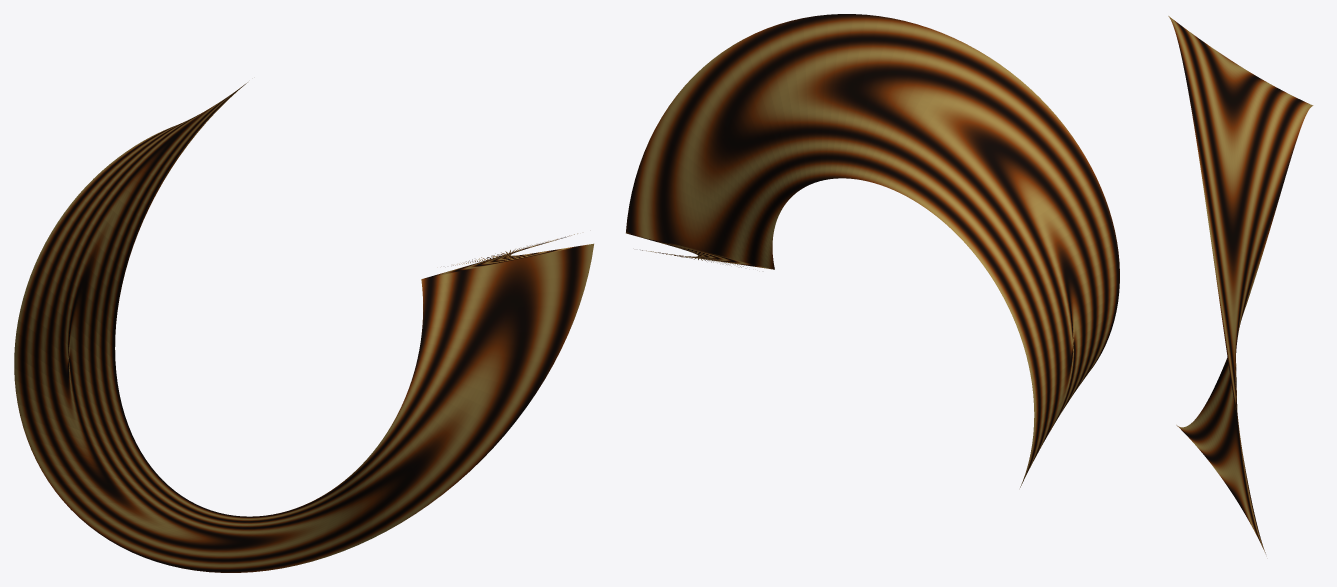
The model's file is mobius-warm-amber.glb.
3 renders of one model, left to right at view 1: azimuth 30°, elevation 25°; view 2: azimuth 150°, elevation 25°; view 3: azimuth 270°, elevation 25°, orthographic. The views are drawn at different scales.
Visible parts, largest first — view 1: world; view 2: world; view 3: world.
Boxes of the visible parts, left/top/right/bottom form: world: left=14, top=82, right=593, bottom=572; world: left=626, top=14, right=1119, bottom=487; world: left=1168, top=16, right=1313, bottom=553.
Bounding box in the file's own units: 2.42 × 2.58 × 0.8.
1 material, 1 textured.
